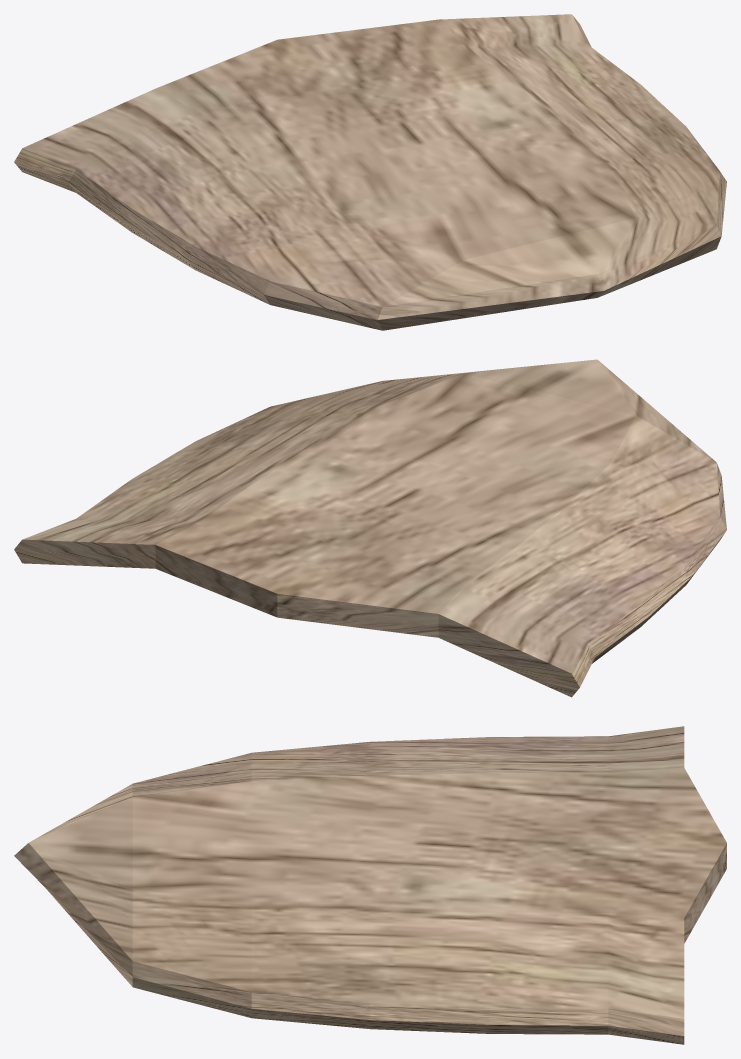
File: Shield_0.obj
The picture shows the model from 3 angles, top to bottom: view 1: azimuth 30°, elevation 25°; view 2: azimuth 150°, elevation 25°; view 3: azimuth 270°, elevation 25°; orthographic projection. The views are drawn at different scales.
Parts seen in each view (by area): view 1: Cube; view 2: Cube; view 3: Cube.
Part boxes in pixels (x1,y1,x2,y2): Cube: (14,14,726,330); Cube: (14,359,726,697); Cube: (14,726,726,1044).
Size of the model in its own units: 2 by 0.1722 by 2.
